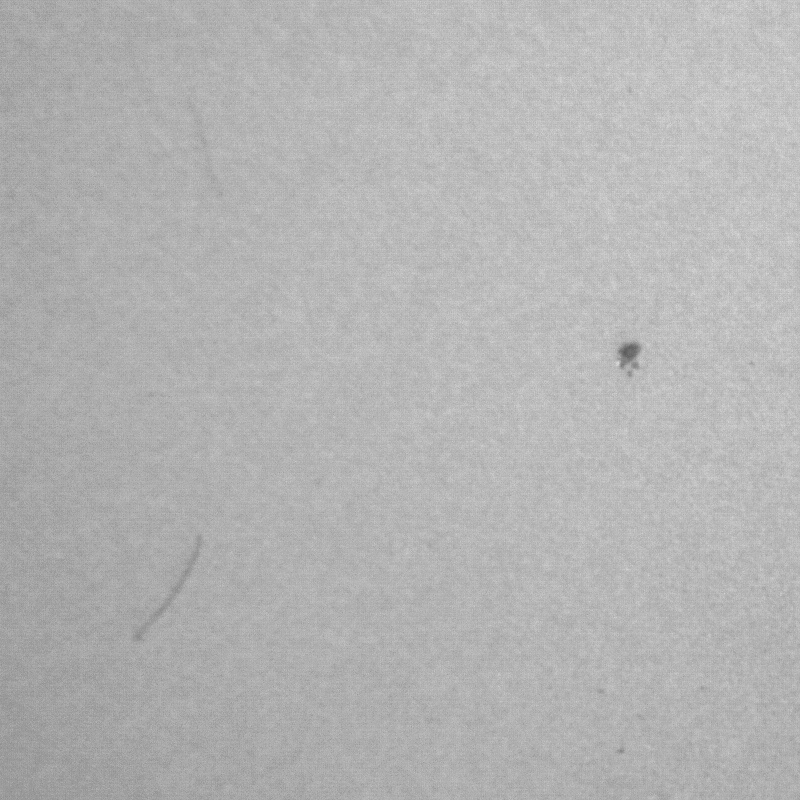defect: (134, 538, 202, 644), (614, 338, 647, 376)
